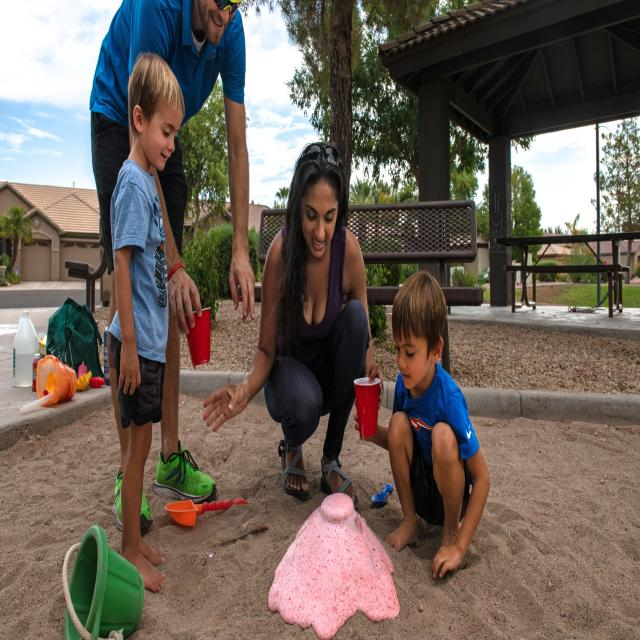adult: (90, 0, 257, 535), (204, 139, 383, 511)
child: (354, 271, 492, 584), (107, 47, 186, 587)
